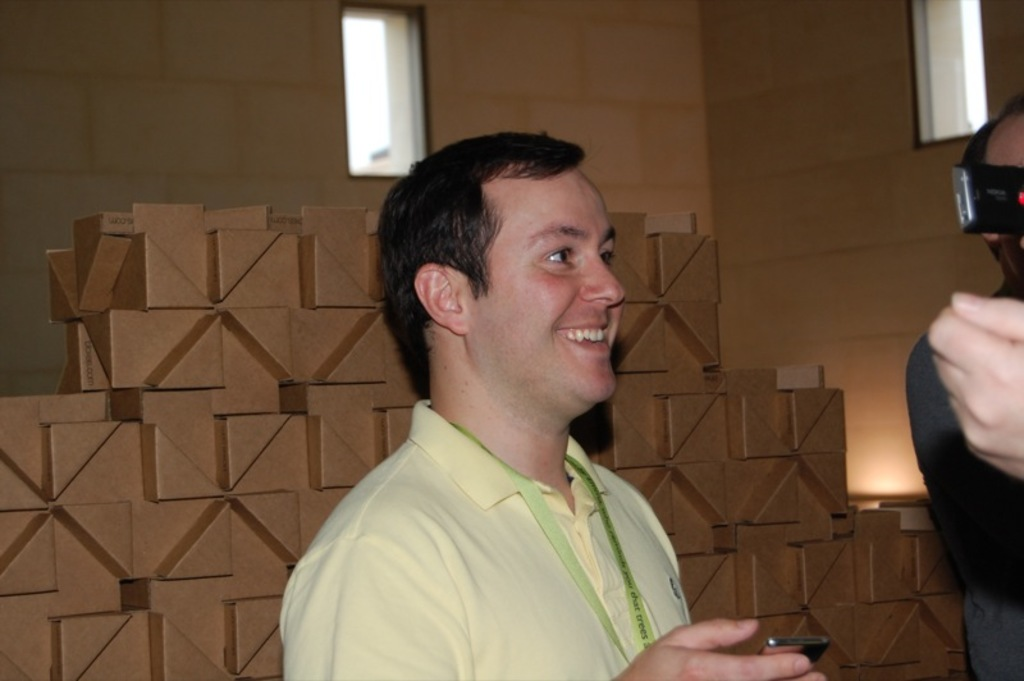Human_hand: (914, 276, 1016, 484), (604, 613, 827, 680)
